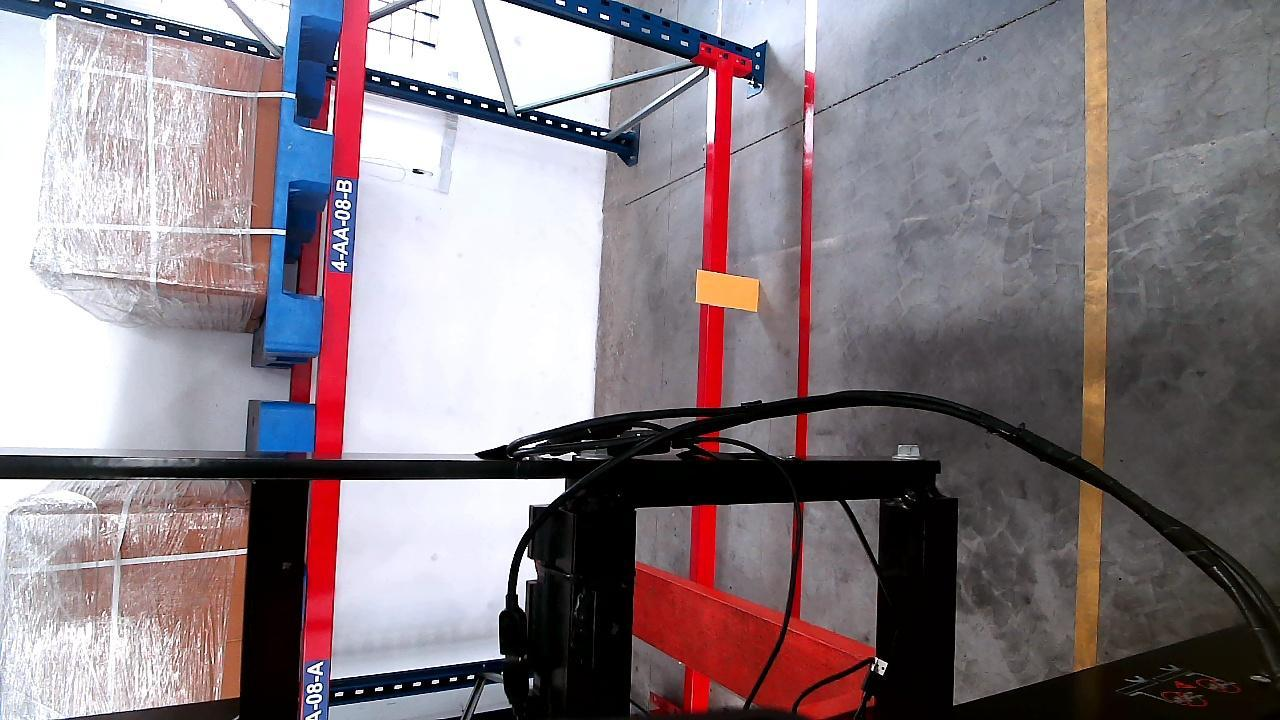red_line: (796, 1, 816, 451)
yellow_line: (1078, 0, 1108, 670)
